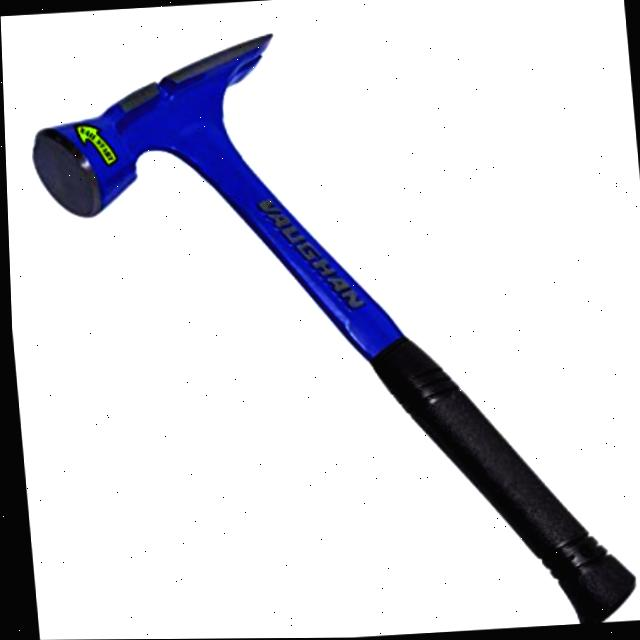hammer: (7, 1, 640, 640)
